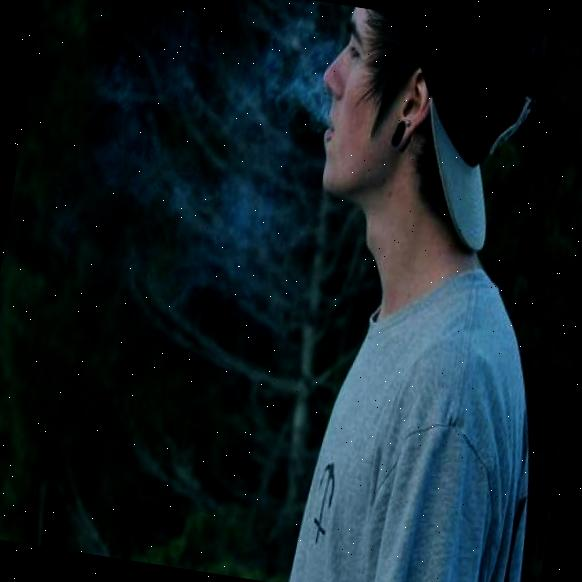smoke: (178, 17, 331, 266)
